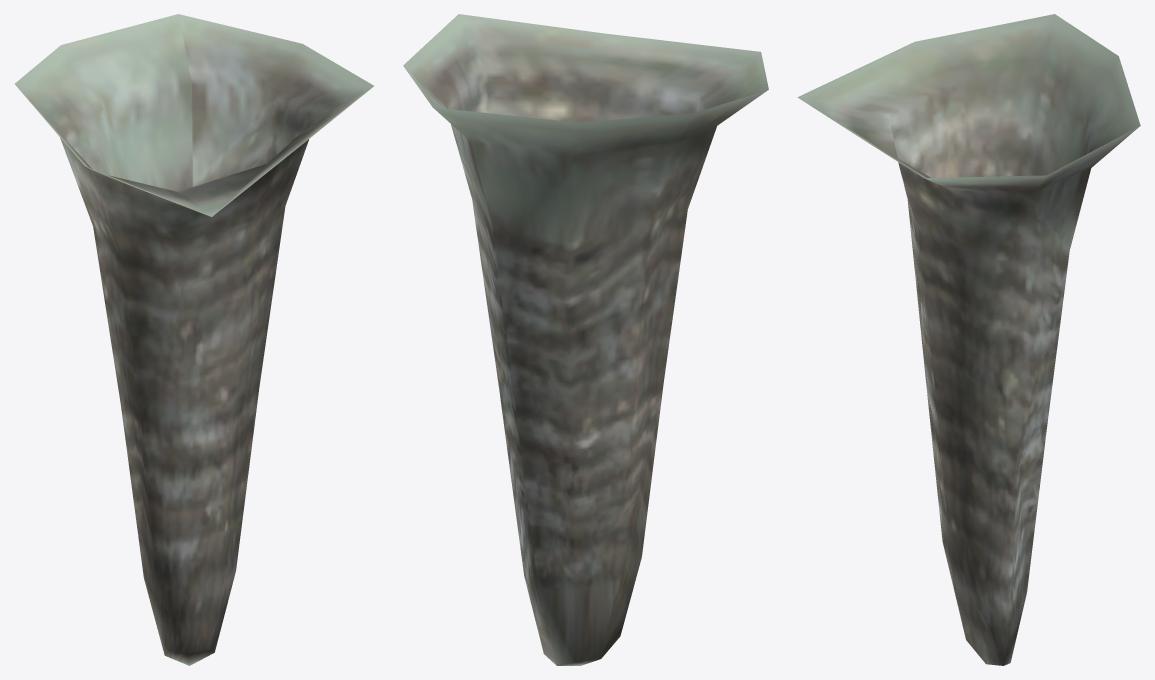
The model's file is TROLLHOLE02_PS-UPPERSTALAG23.fbx.
3 views of the same model, side by side, from view 1: azimuth 30°, elevation 25°; view 2: azimuth 150°, elevation 25°; view 3: azimuth 270°, elevation 25° (orthographic). The views are drawn at different scales.
Visible parts, largest first — view 1: TROLLHOLE02_PS-UPPERSTALAG23; view 2: TROLLHOLE02_PS-UPPERSTALAG23; view 3: TROLLHOLE02_PS-UPPERSTALAG23.
Part boxes in pixels (x1,y1,x2,y2): TROLLHOLE02_PS-UPPERSTALAG23: (15,14,373,665); TROLLHOLE02_PS-UPPERSTALAG23: (403,14,768,665); TROLLHOLE02_PS-UPPERSTALAG23: (797,14,1140,665).
Size of the model in its own units: 11643 by 22359 by 11996.
Materials: 1 (1 with a texture image).
